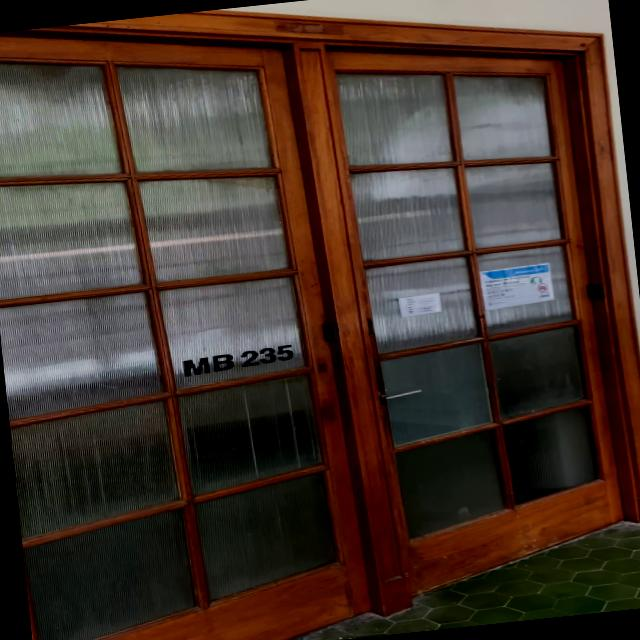room235Window: (176, 342, 300, 381)
